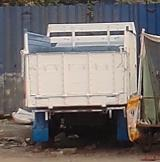Truck: (15, 20, 140, 147)
